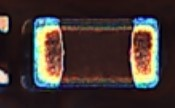COMP: (23, 11, 166, 93)
GAP: (1, 17, 51, 85)
